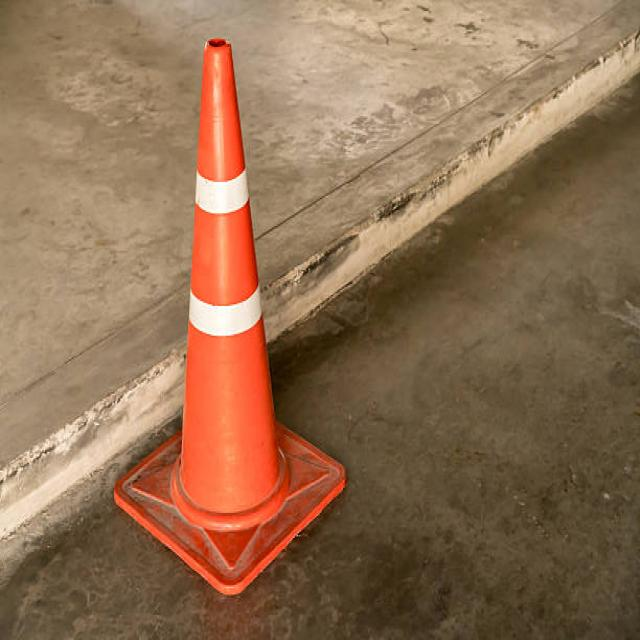Traffic Cone: (100, 11, 369, 620)
